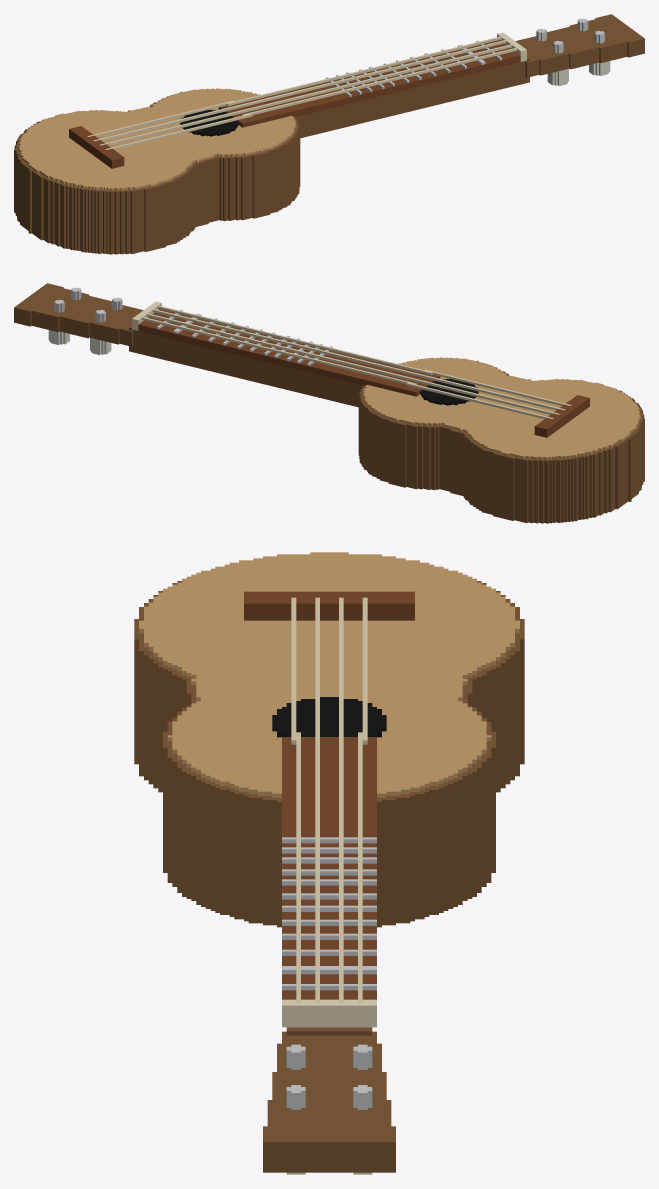
Rendered from ukulele.glb.
3 renders of one model, top to bottom at view 1: azimuth 30°, elevation 25°; view 2: azimuth 150°, elevation 25°; view 3: azimuth 270°, elevation 25°, orthographic. The views are drawn at different scales.
Visible parts, largest first — view 1: ukulele:compound; view 2: ukulele:compound; view 3: ukulele:compound.
Boxes of the visible parts, x1=… form: ukulele:compound: x1=14, y1=14, x2=644, y2=254; ukulele:compound: x1=14, y1=283, x2=644, y2=523; ukulele:compound: x1=134, y1=552, x2=524, y2=1174.
Size of the model in its own units: 0.582 by 0.068 by 0.164.
